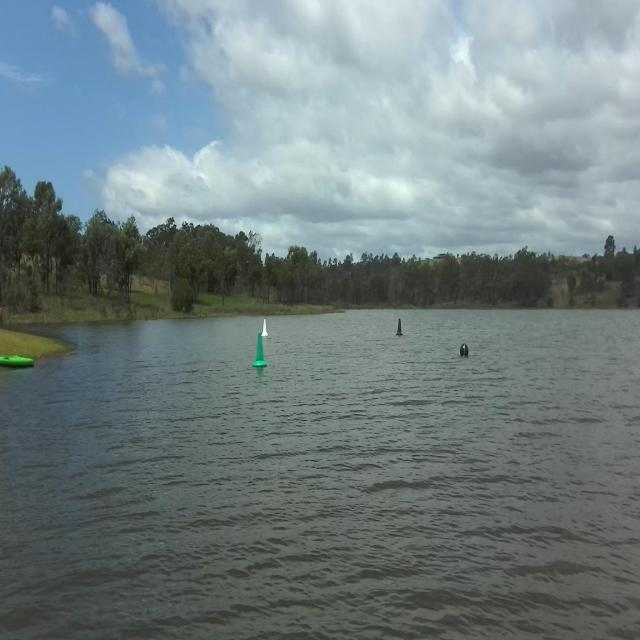Black_Buoy: (457, 337, 471, 362), (396, 314, 404, 340)
Green_Buoy: (253, 334, 264, 376)
White_Buoy: (259, 318, 272, 338)
